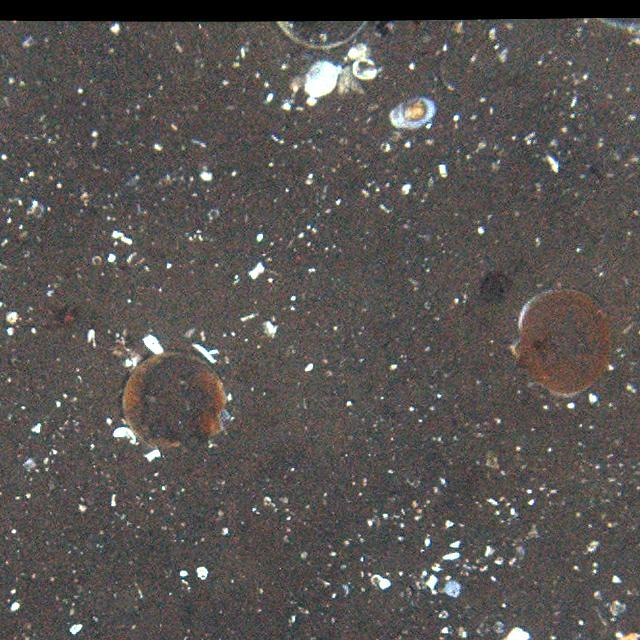scallop: (506, 282, 616, 400), (115, 348, 235, 448)
